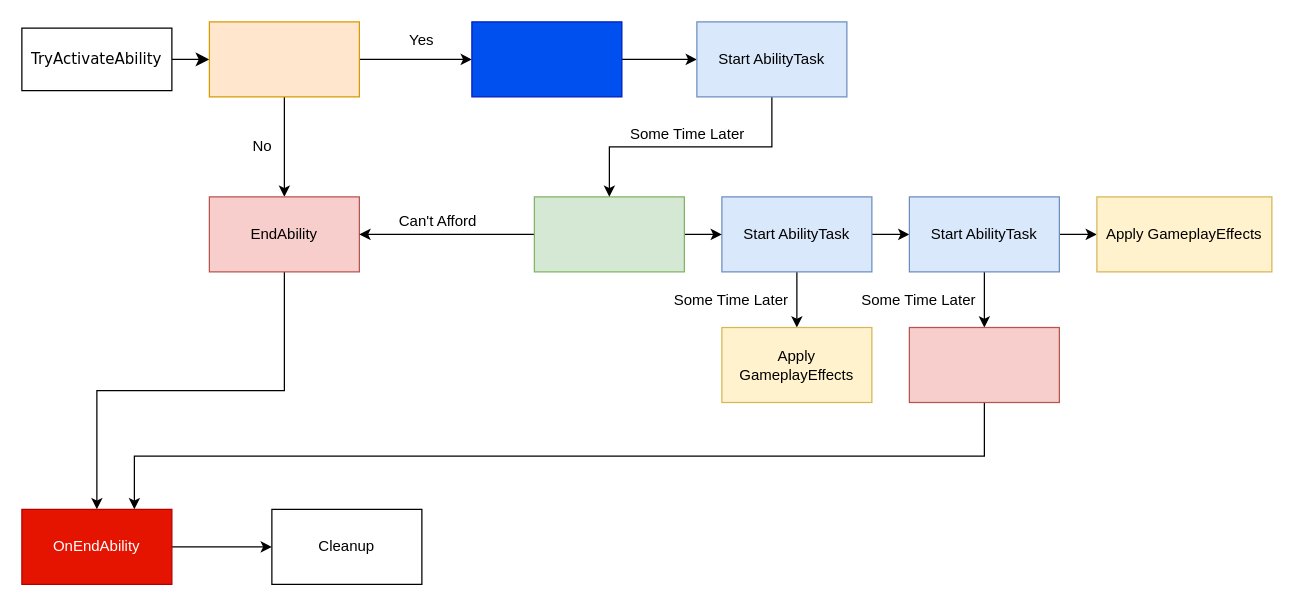
Image size: 1294x606. Some labels were removed from this diagram. Here are the shapes that lost their labels. From the top down, the centre of each, then its label:
At pixel 283 59: "CanActivateAbility".
At pixel 546 59: "ActivateAbility".
At pixel 608 234: "CommitAbility".
At pixel 983 364: "End Ability".
